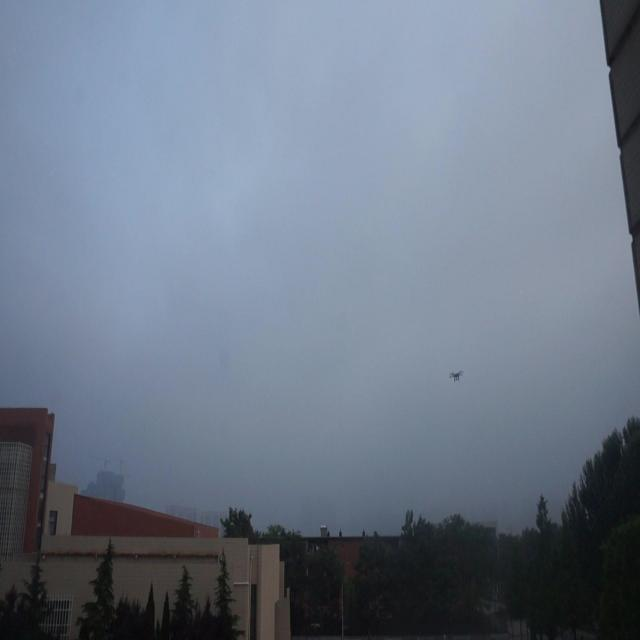UAV: (449, 370, 464, 382)
